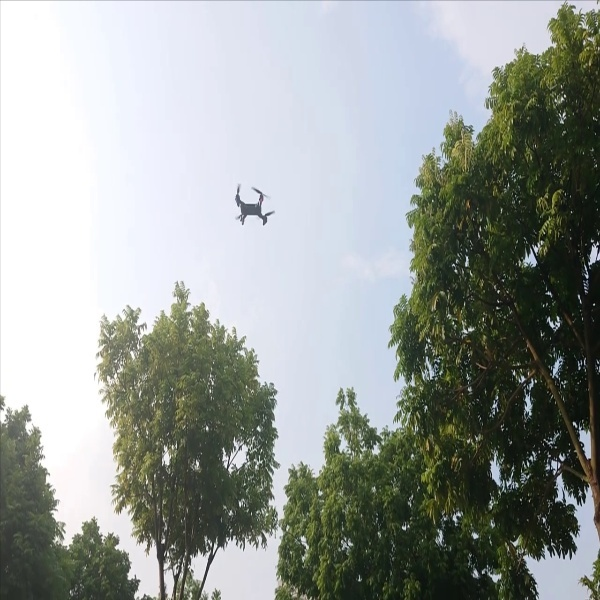drone: (226, 176, 284, 232)
